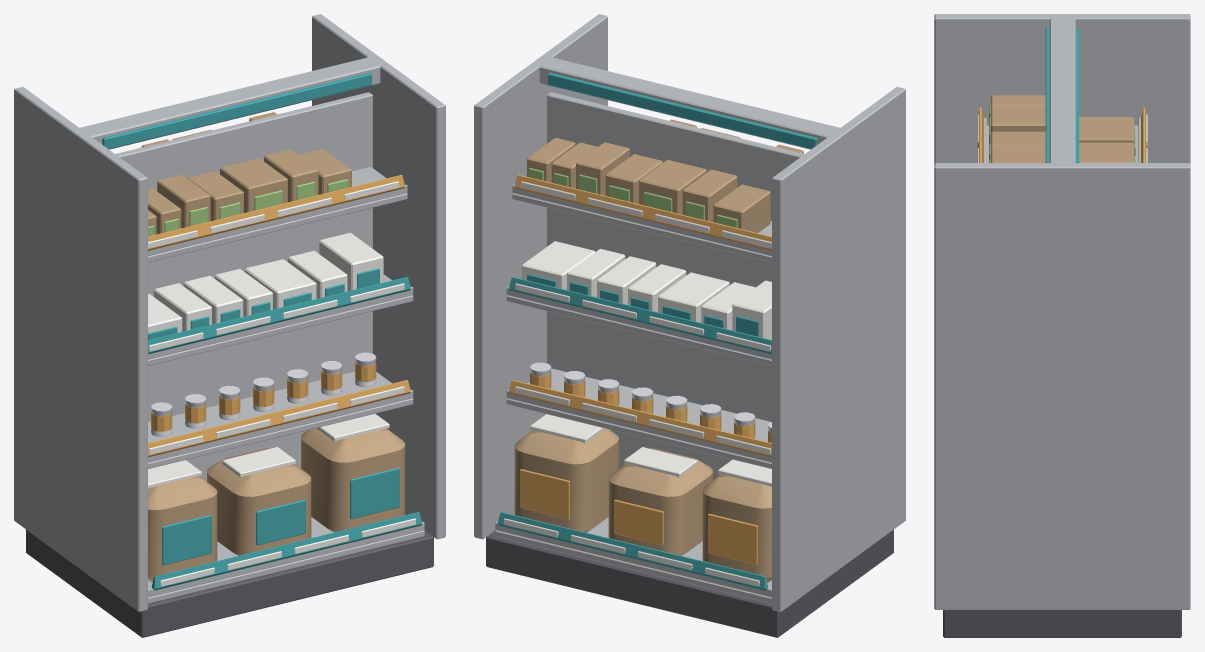
File: pet-shop-and-grooming-salon-gondola-shelving-unit-f56a7fe6__34569.glb
3 renders of one model, left to right at view 1: azimuth 30°, elevation 25°; view 2: azimuth 150°, elevation 25°; view 3: azimuth 270°, elevation 25°, orthographic. The views are drawn at different scales.
Visible parts, largest first — view 1: gondola-shelving-unit; view 2: gondola-shelving-unit; view 3: gondola-shelving-unit.
Part boxes in pixels (left/top/right/bottom): gondola-shelving-unit: left=14, top=14, right=445, bottom=637; gondola-shelving-unit: left=474, top=14, right=905, bottom=637; gondola-shelving-unit: left=934, top=14, right=1190, bottom=637.
Bounding box in the file's own units: 1.25 × 1.8 × 0.8801.
